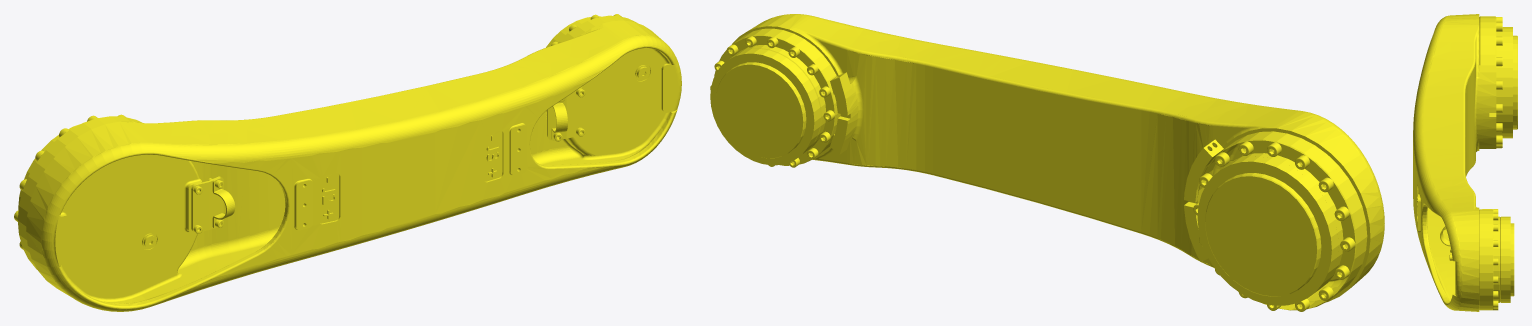
3 renders of one model, left to right at view 1: azimuth 30°, elevation 25°; view 2: azimuth 150°, elevation 25°; view 3: azimuth 270°, elevation 25°, orthographic. The views are drawn at different scales.
Visible parts, largest first — view 1: Link2; view 2: Link2; view 3: Link2.
Part boxes in pixels (left/top/right/bottom): Link2: left=14, top=14, right=681, bottom=311; Link2: left=710, top=14, right=1384, bottom=311; Link2: left=1413, top=14, right=1517, bottom=311.
Bounding box in the file's own units: 0.7727 × 0.15 × 0.1964.
